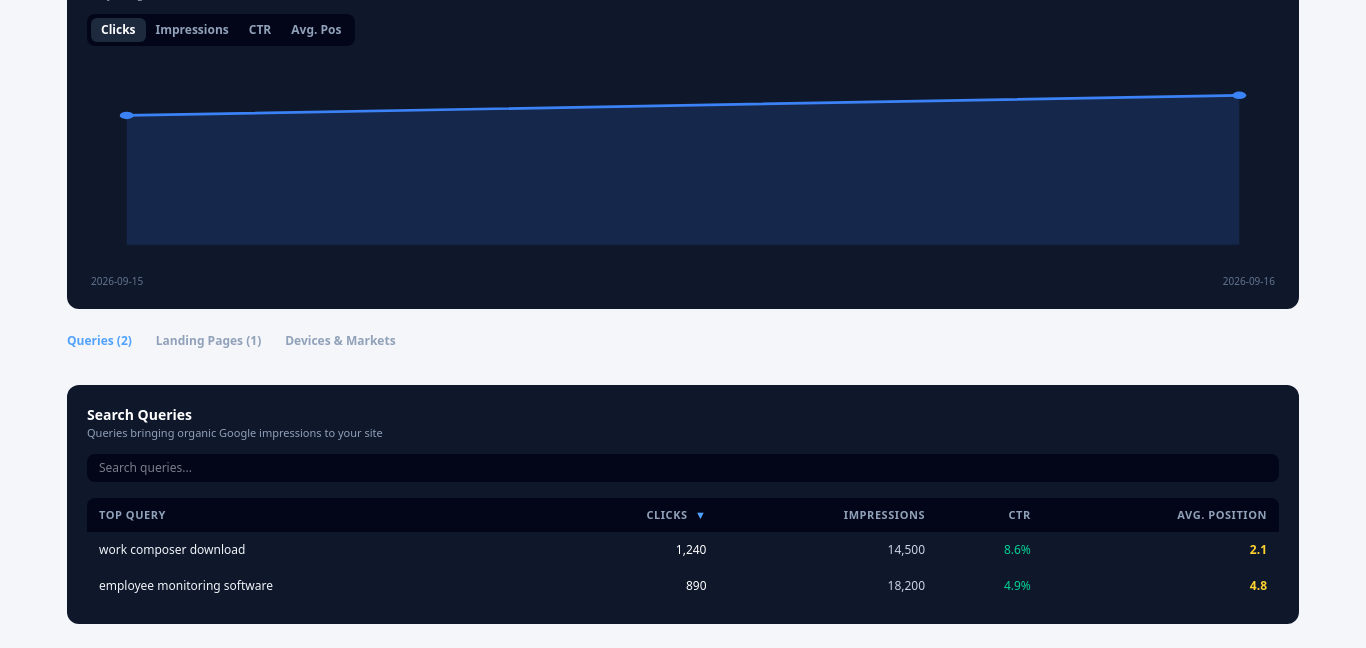
Test: GscPerformanceWorkspace Component › switches across sub-tabs: Queries, Landing Pages, and Devices & Markets
(page scrolled)
Note: Switch to Landing Pages tab
Click the button "Landing Pages (1)".
click(208, 347)  # box [156,333,261,361]
(page scrolled)
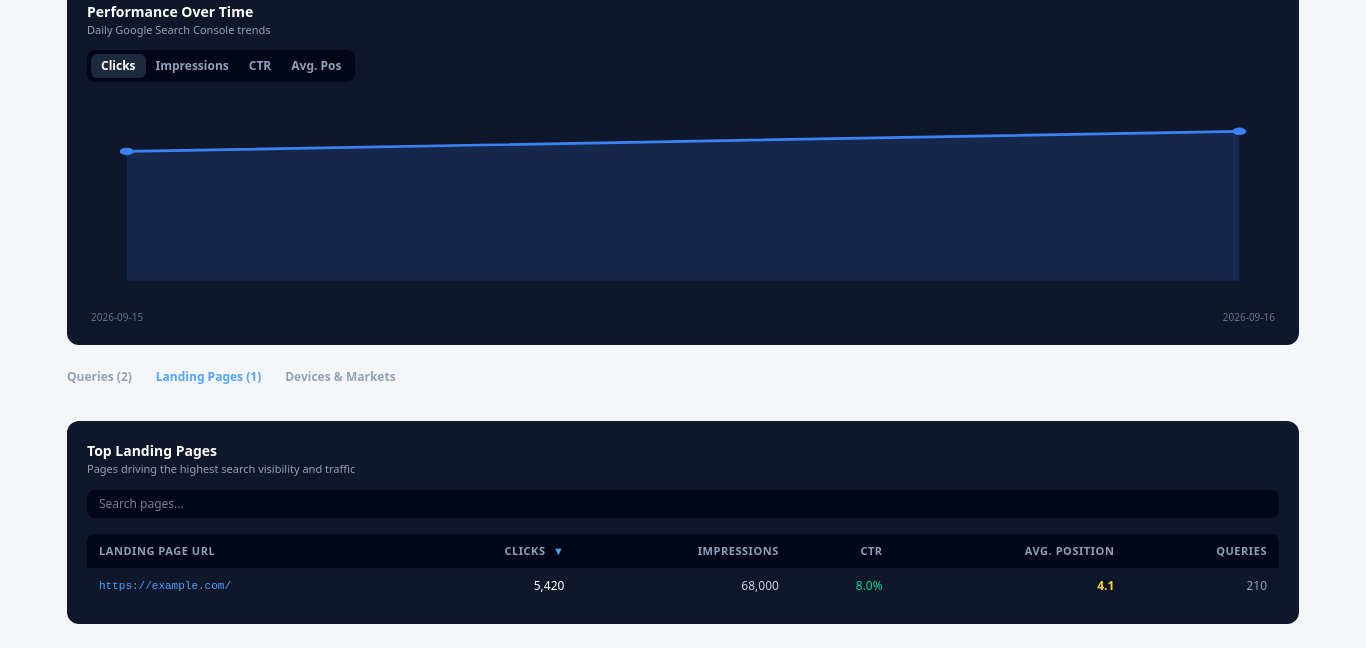
expect the element with test id "gsc-page-table" is shown: met, box [67,421,1299,624]
expect the text "https://example.com/" is shown: met, box [87,568,405,604]
Note: Switch to Devices & Markets tab
Click the button "Devices & Markets".
click(340, 383)  # box [285,369,396,397]
(page scrolled)
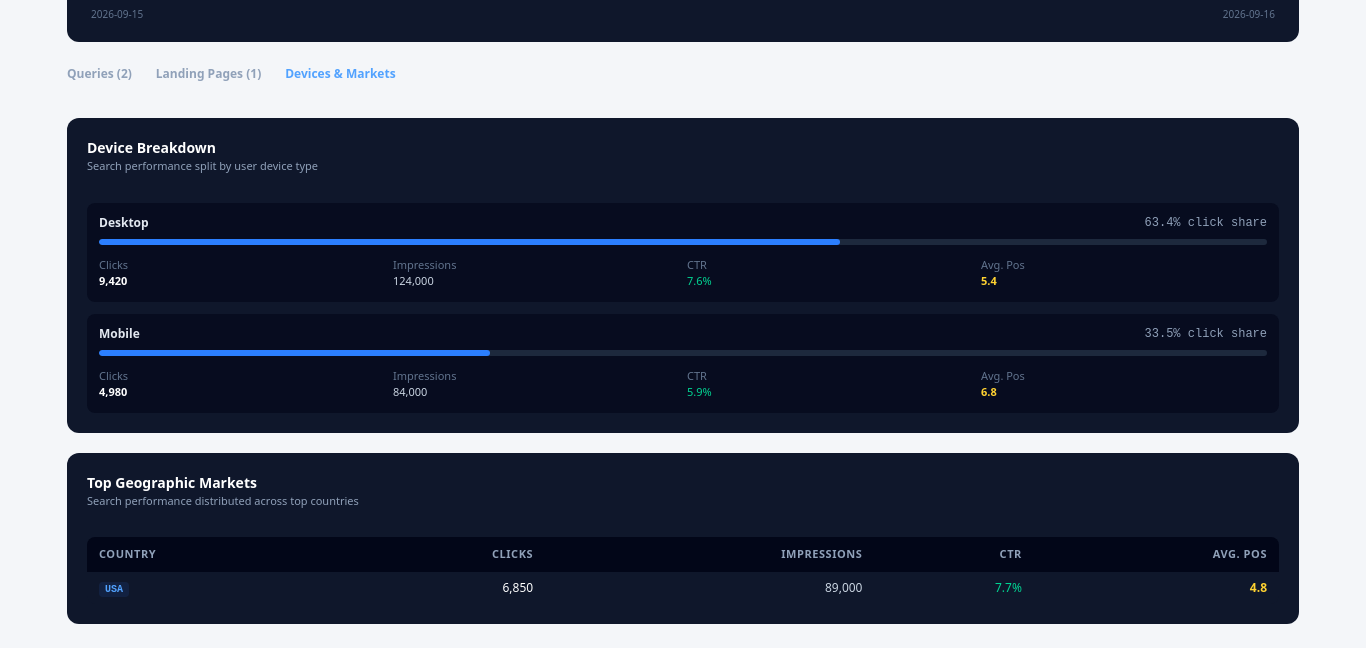
expect the element with test id "gsc-breakdown" is shown: met
expect the element with test id "device-breakdown" is shown: met, box [67,118,1299,433]
expect the element with test id "country-breakdown" is shown: met, box [67,453,1299,624]
